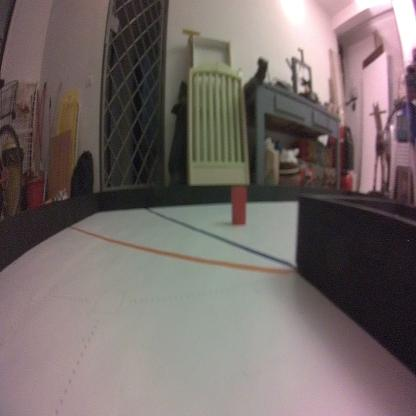red: (230, 184, 246, 227)
